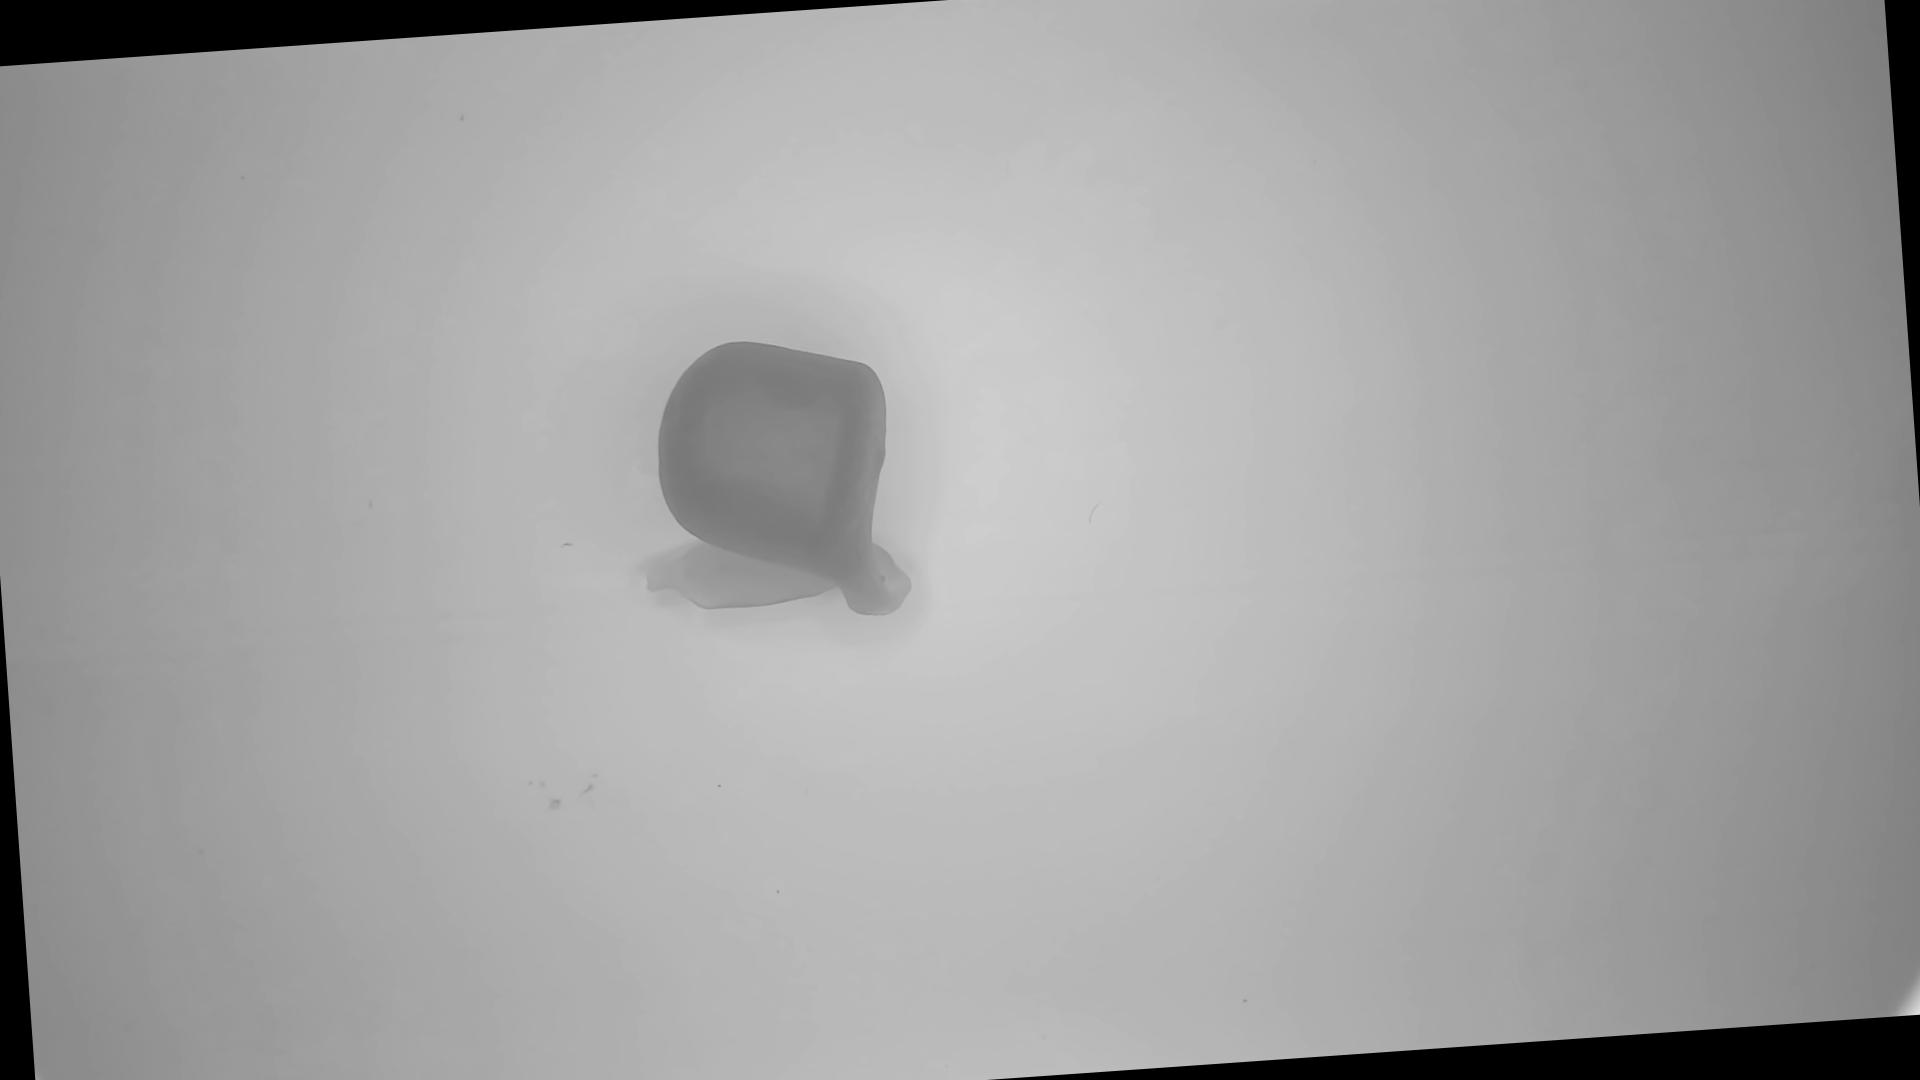abnormal: (626, 328, 918, 636)
